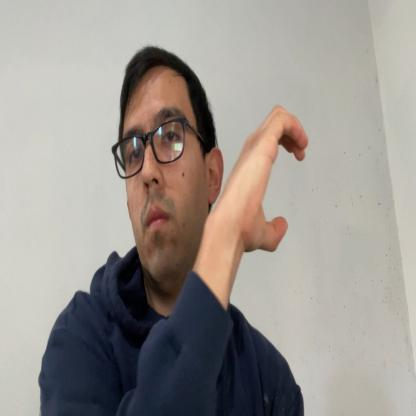C: (238, 104, 310, 254)
